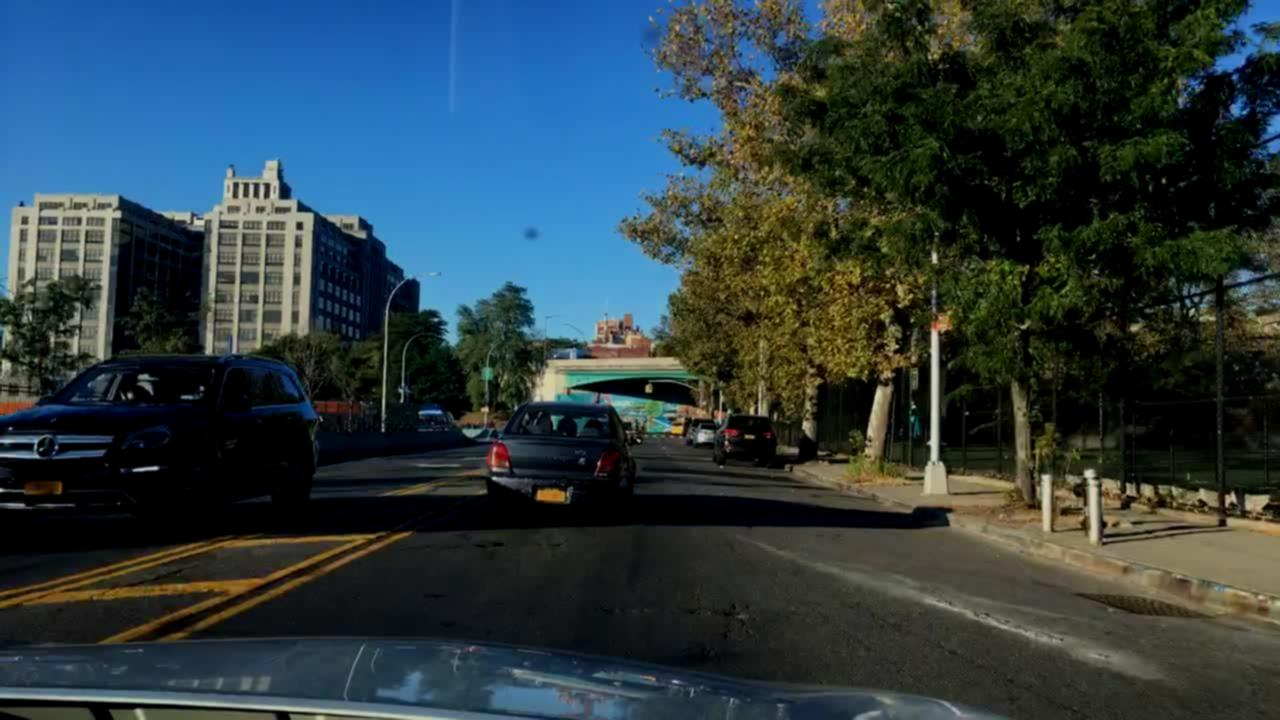Mercedes: (30, 434, 62, 460)
